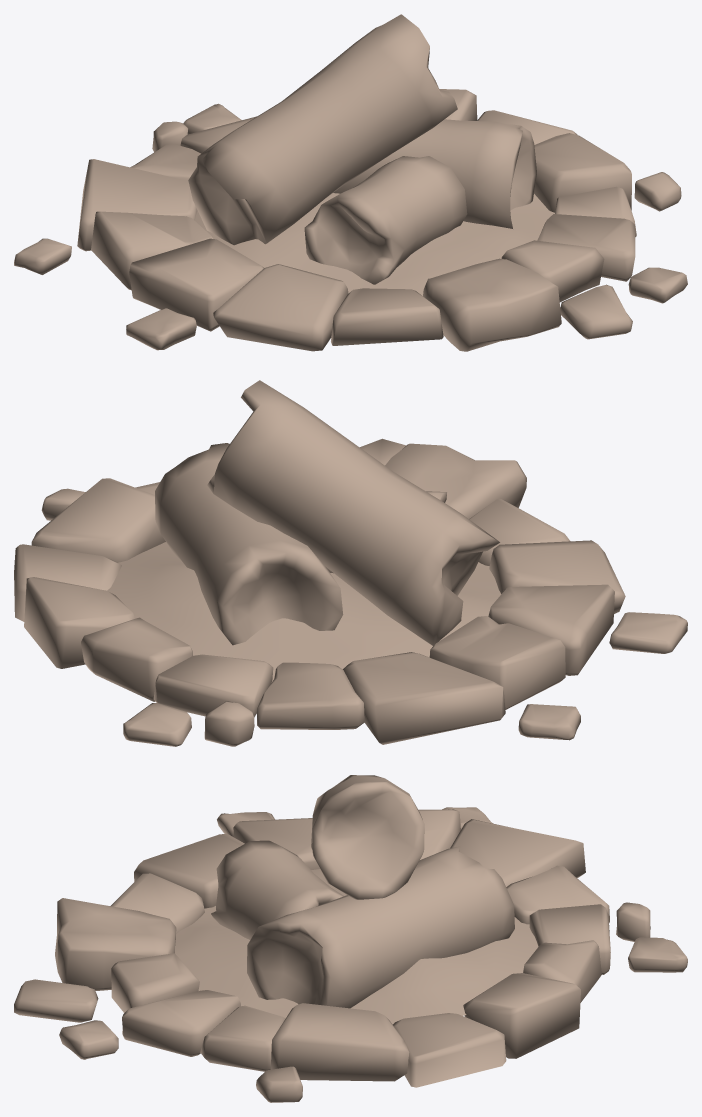
Rendered from SM_Stylized_Bonfire.glb.
3 views of the same model, one above another, from view 1: azimuth 30°, elevation 25°; view 2: azimuth 150°, elevation 25°; view 3: azimuth 270°, elevation 25° (orthographic). The views are drawn at different scales.
Visible parts, largest first — view 1: SM_Stylized_Bonfire; view 2: SM_Stylized_Bonfire; view 3: SM_Stylized_Bonfire.
Boxes of the visible parts, x1,y1,x2,y2 form: SM_Stylized_Bonfire: [14, 14, 687, 351]; SM_Stylized_Bonfire: [14, 380, 687, 746]; SM_Stylized_Bonfire: [14, 775, 687, 1102].
Bounding box in the file's own units: 1.37 × 0.4666 × 1.36.
